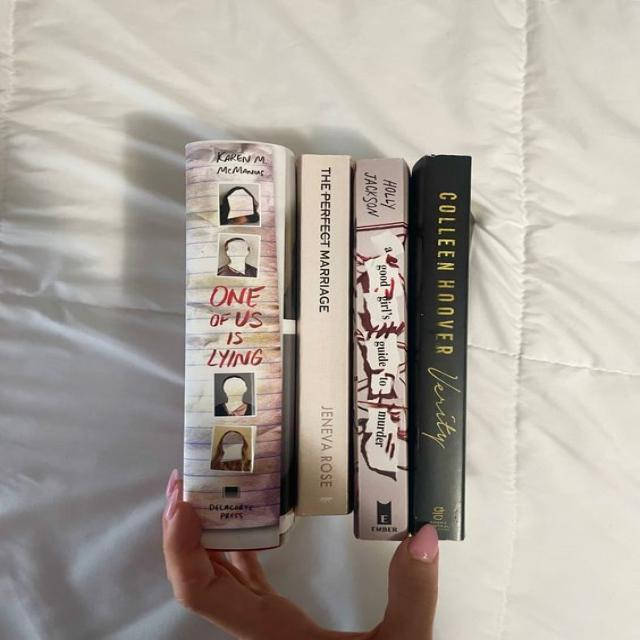book: (186, 140, 280, 549), (356, 159, 405, 540), (300, 154, 350, 515), (419, 154, 463, 542)
